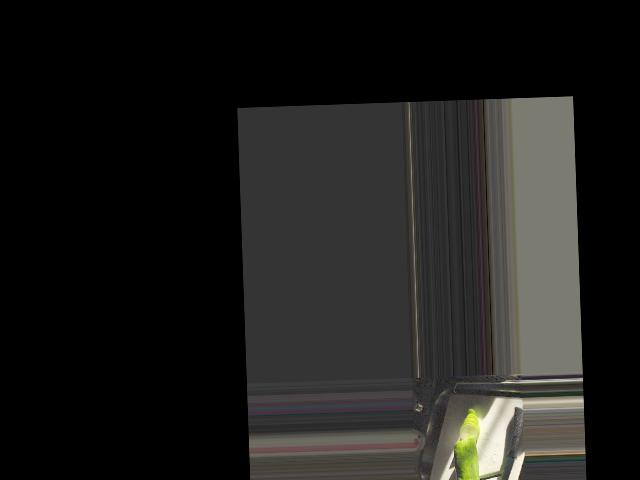cucumber: (453, 436, 482, 480)
